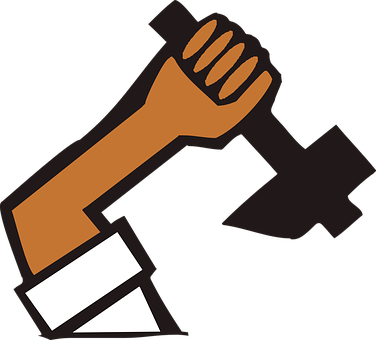fist: (148, 21, 269, 142)
